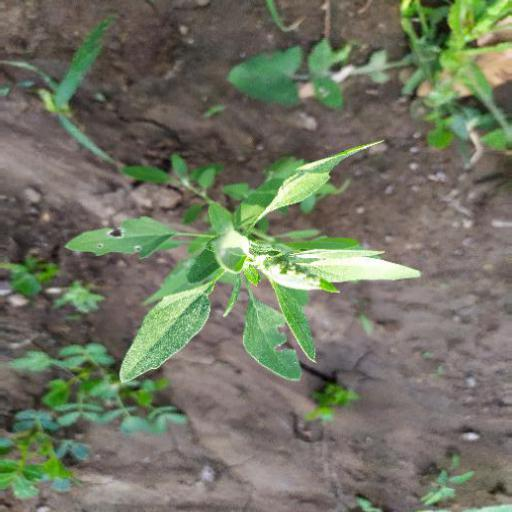weed: (68, 134, 412, 392)
